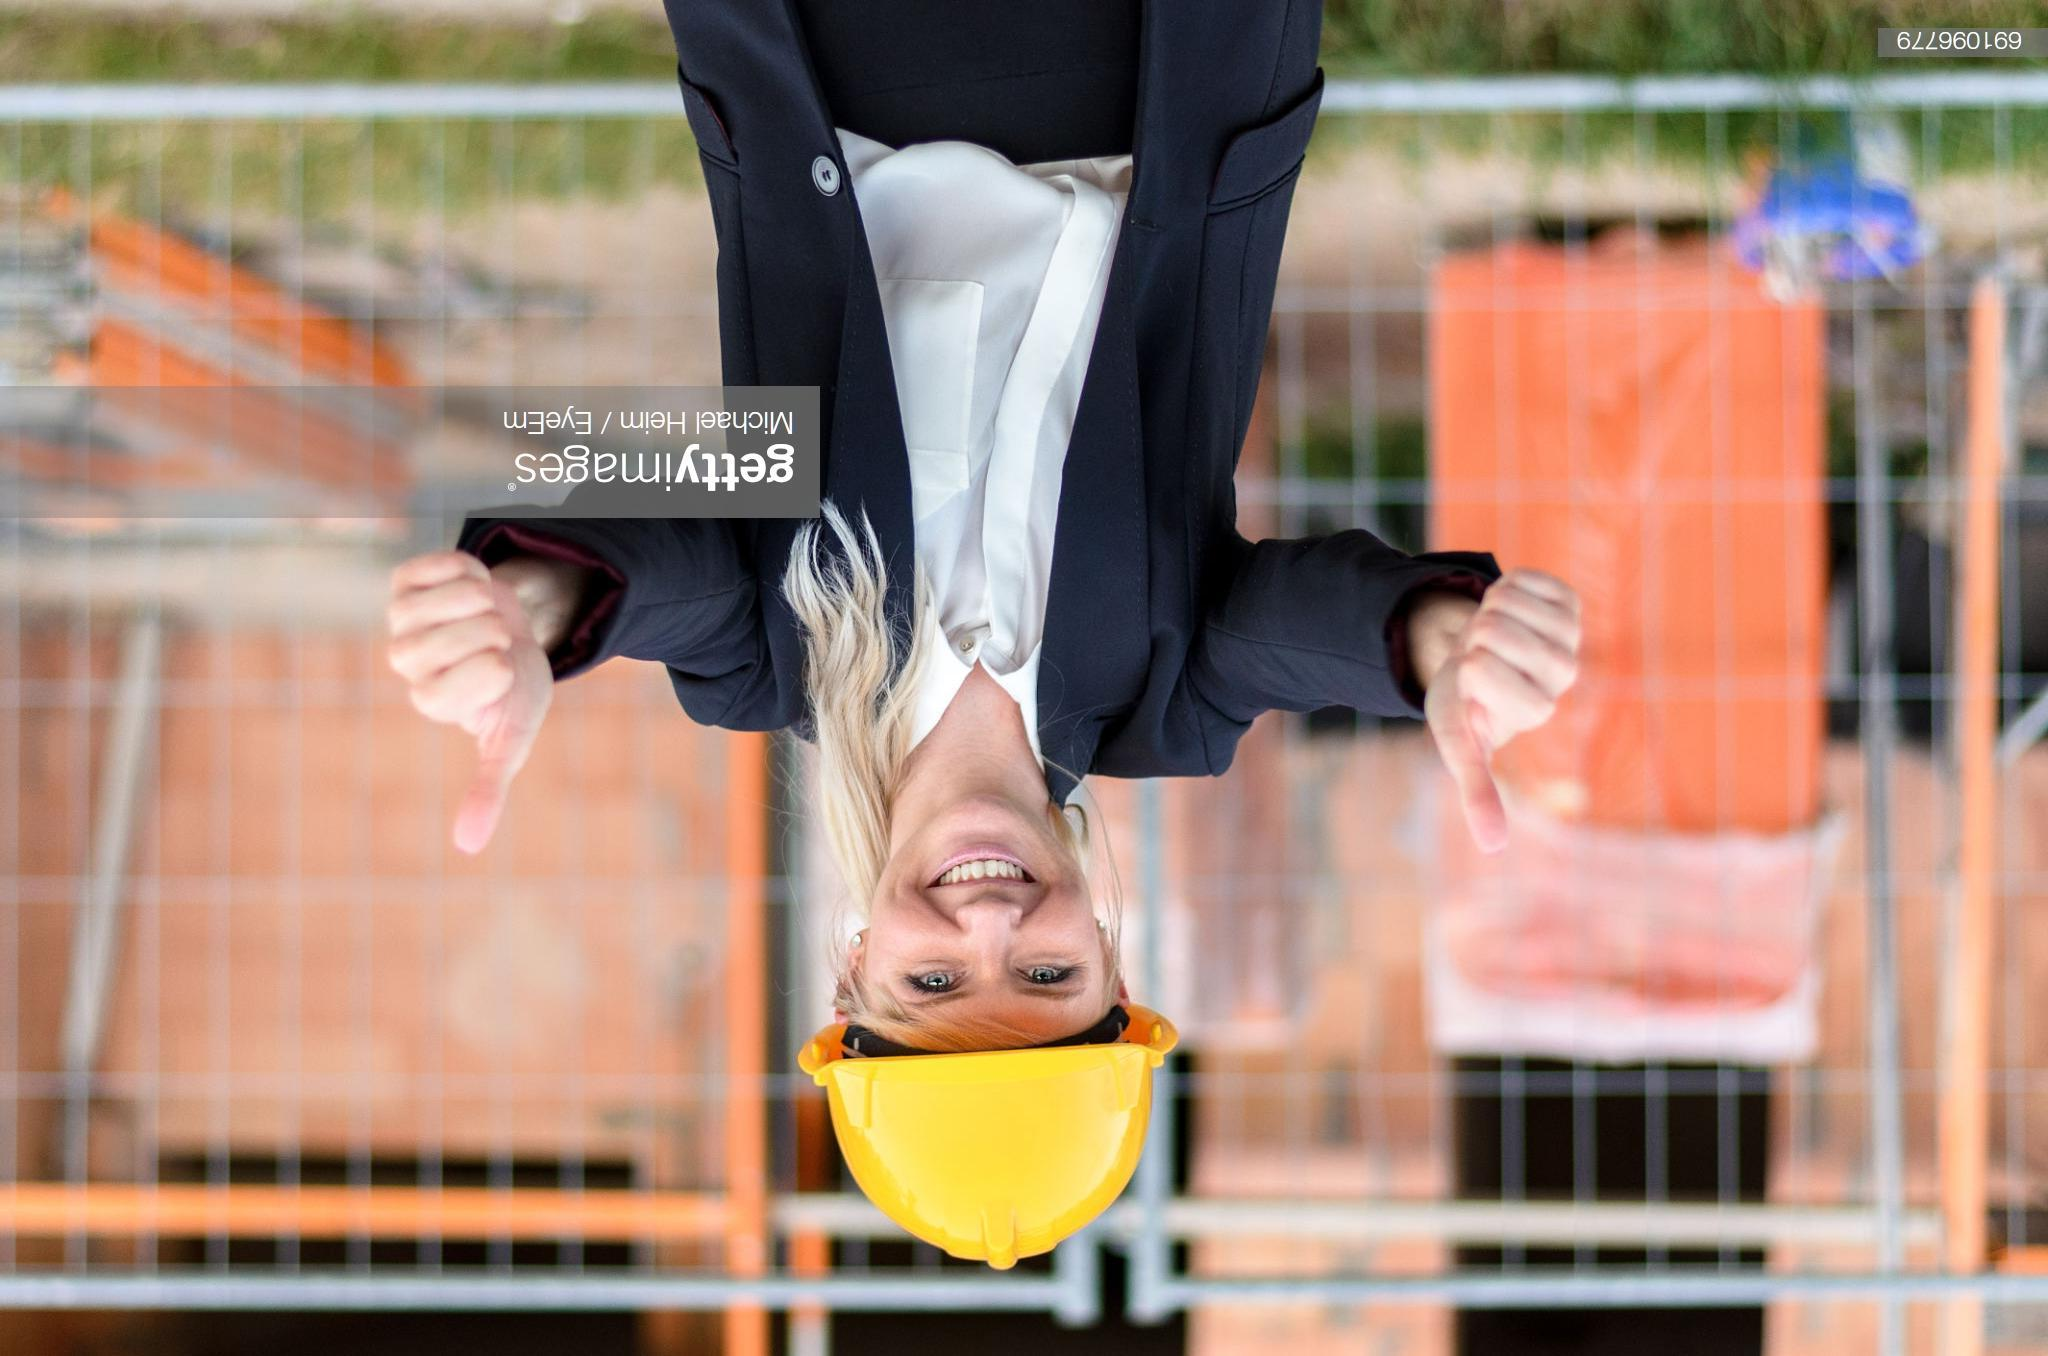thumbsdown: (386, 551, 529, 854), (1451, 572, 1584, 855)
